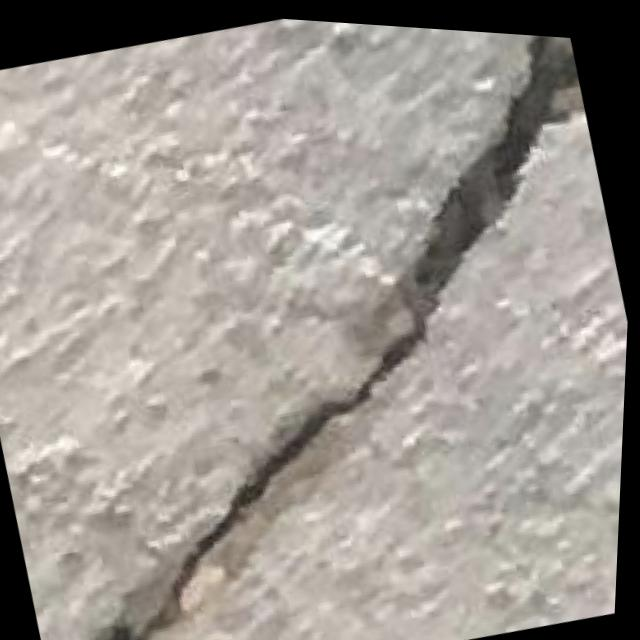Crack: (0, 24, 639, 640)
